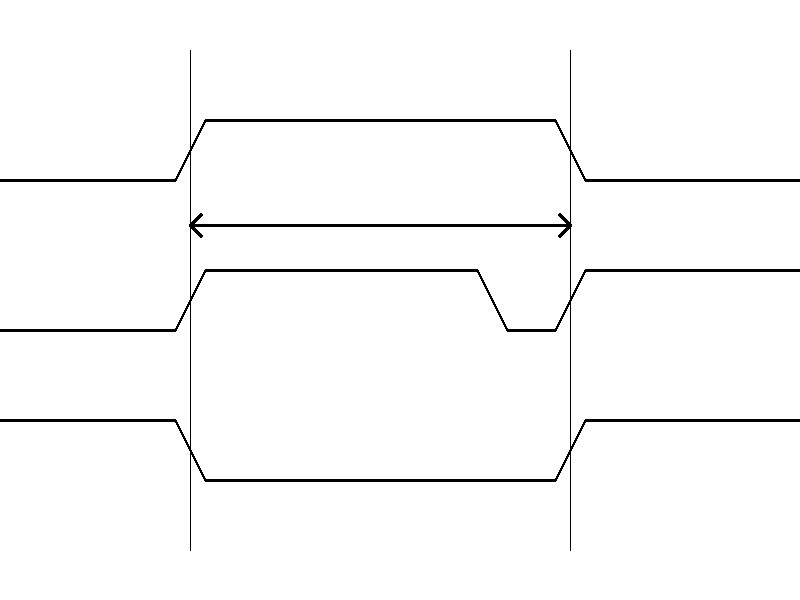double_arrow: (190, 210, 570, 240)
